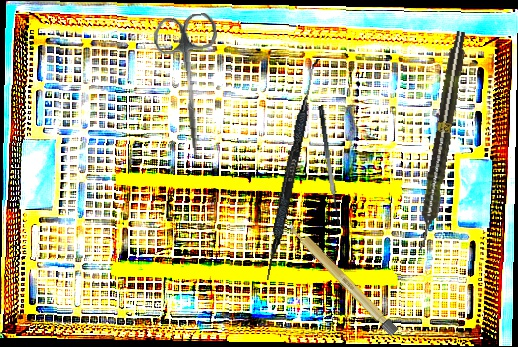Handpiece: (412, 30, 471, 252)
Iris Scissors: (151, 12, 230, 159)
Scalpel Handle: (285, 219, 400, 337)
Spatula Surgical: (263, 56, 320, 283), (317, 103, 349, 230)
